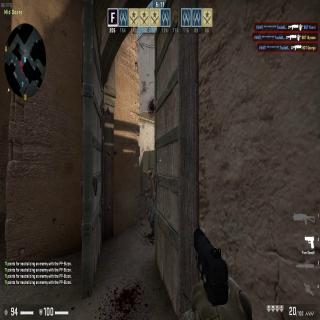CT-Body: (147, 170, 155, 232)
CT-Head: (147, 170, 152, 180)
